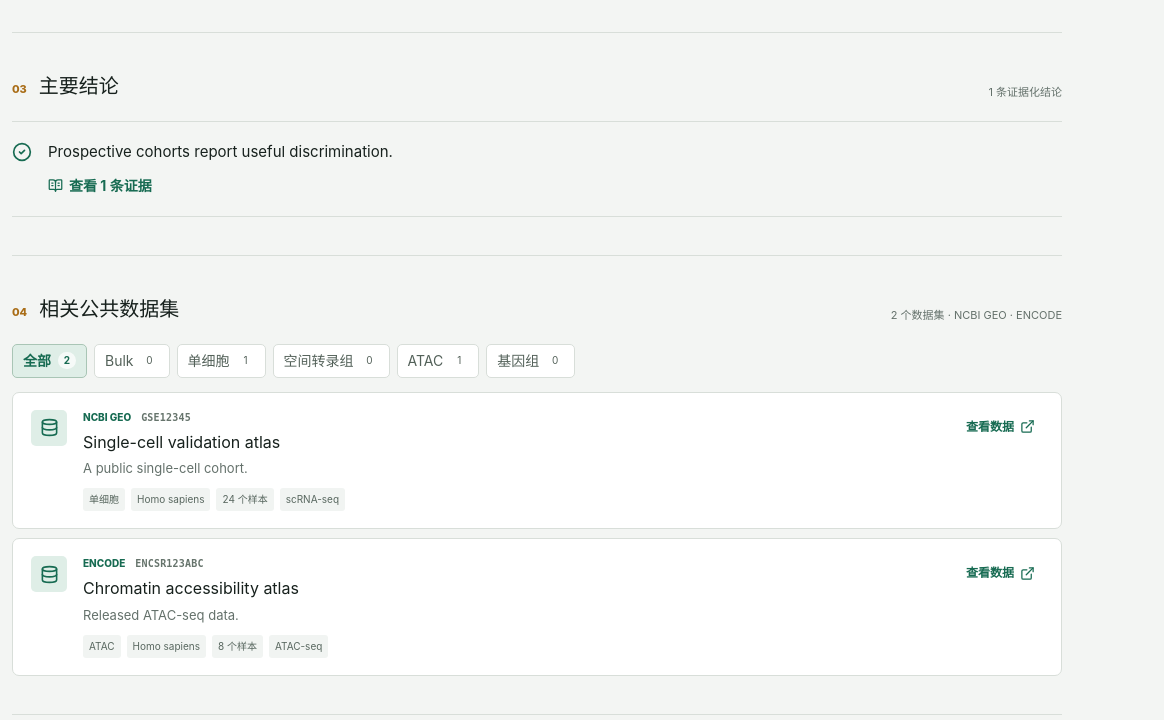
ReportView › shows evidence-backed claims and exactly three recommendations
(page scrolled)
Check: the text "Prospective cohorts report useful discrimination." is shown, box [48,142,393,161]
Click the button "ATAC 1".
click(438, 361)  # box [396,344,479,378]
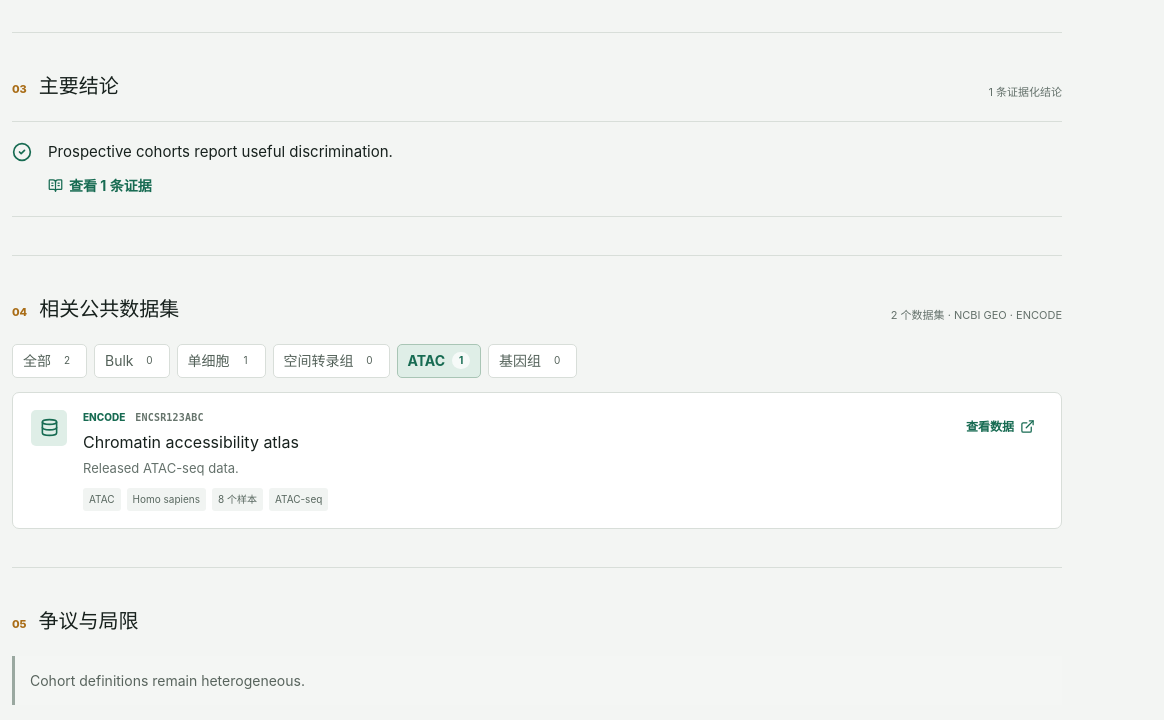
Check: the heading "Chromatin accessibility atlas" is shown, box [83,432,299,452]
Check: the heading "Single-cell validation atlas" is gone
